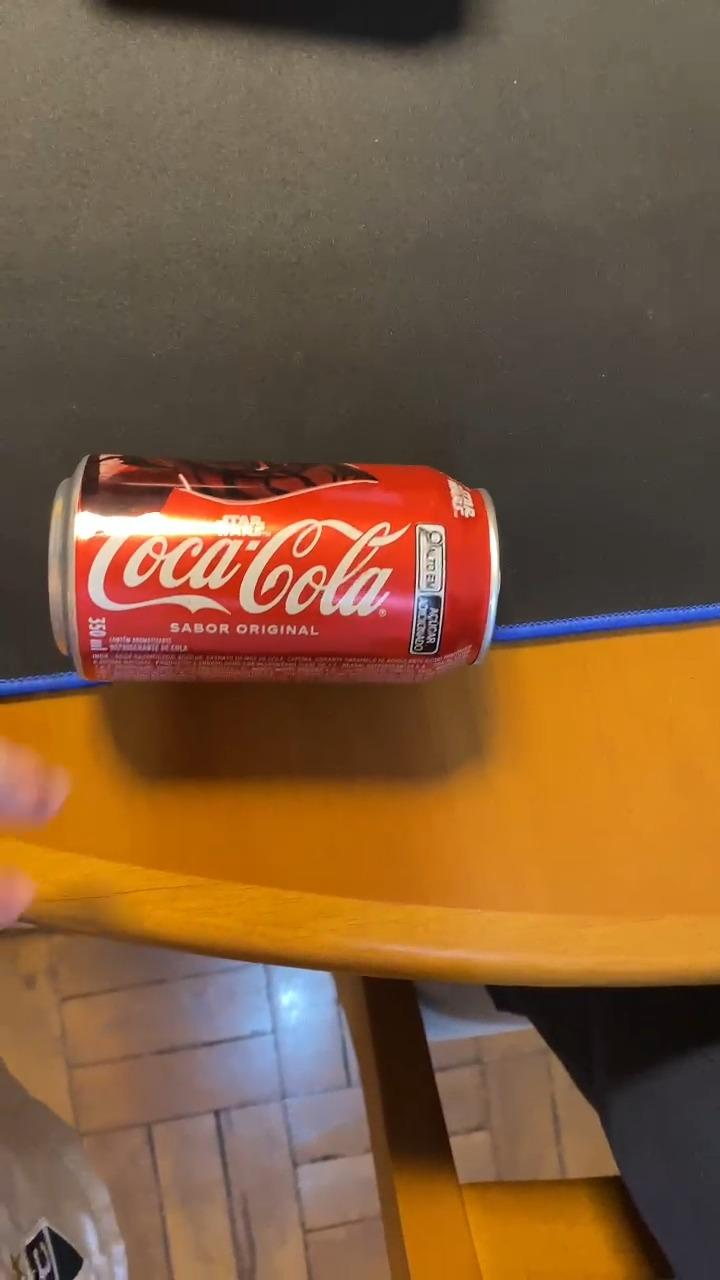coke: (53, 457, 505, 683)
